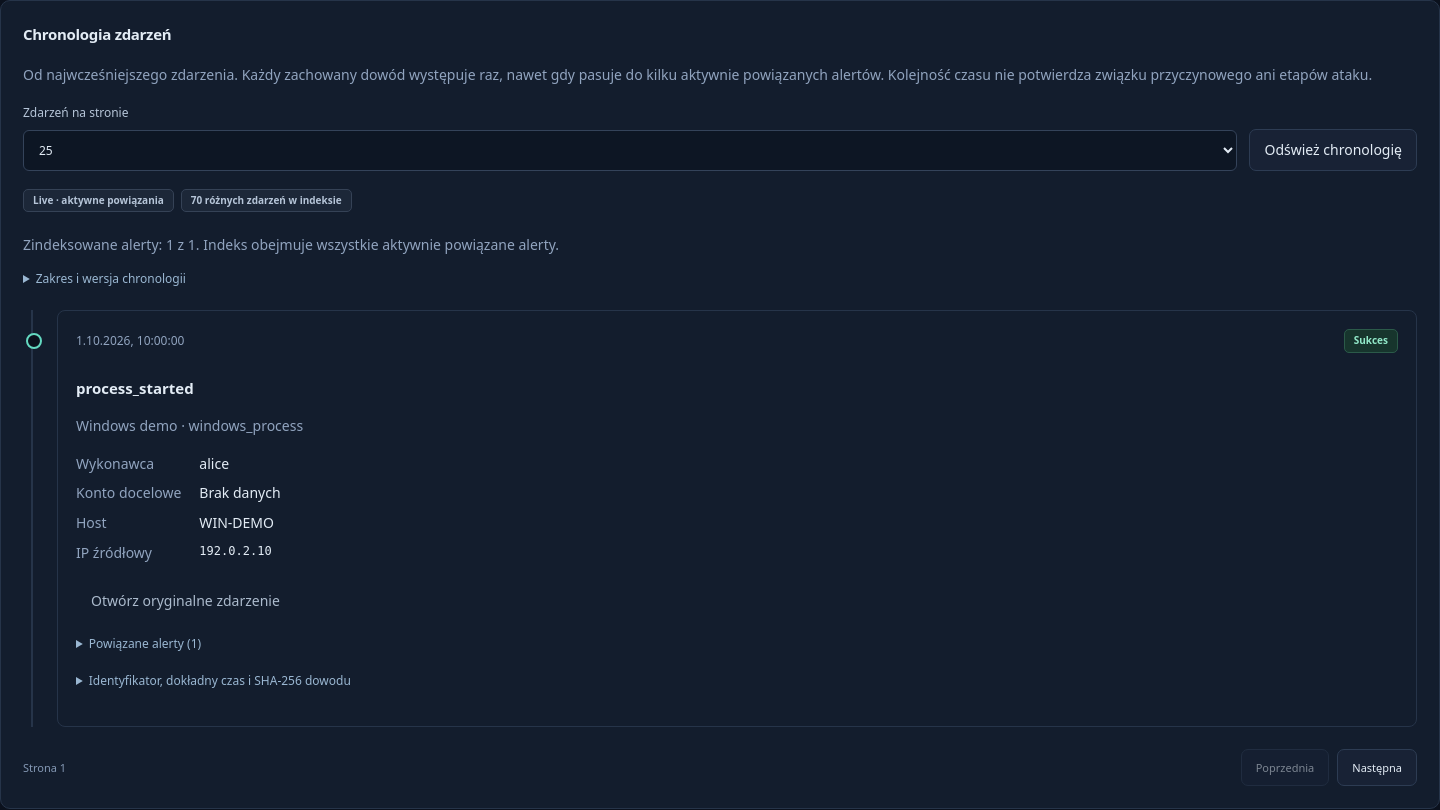
uses signed cursors, keeps global totals and clears the page when page size changes
Step 1. Click the button "Następna" → [1377, 768], box [1337, 749, 1417, 786]
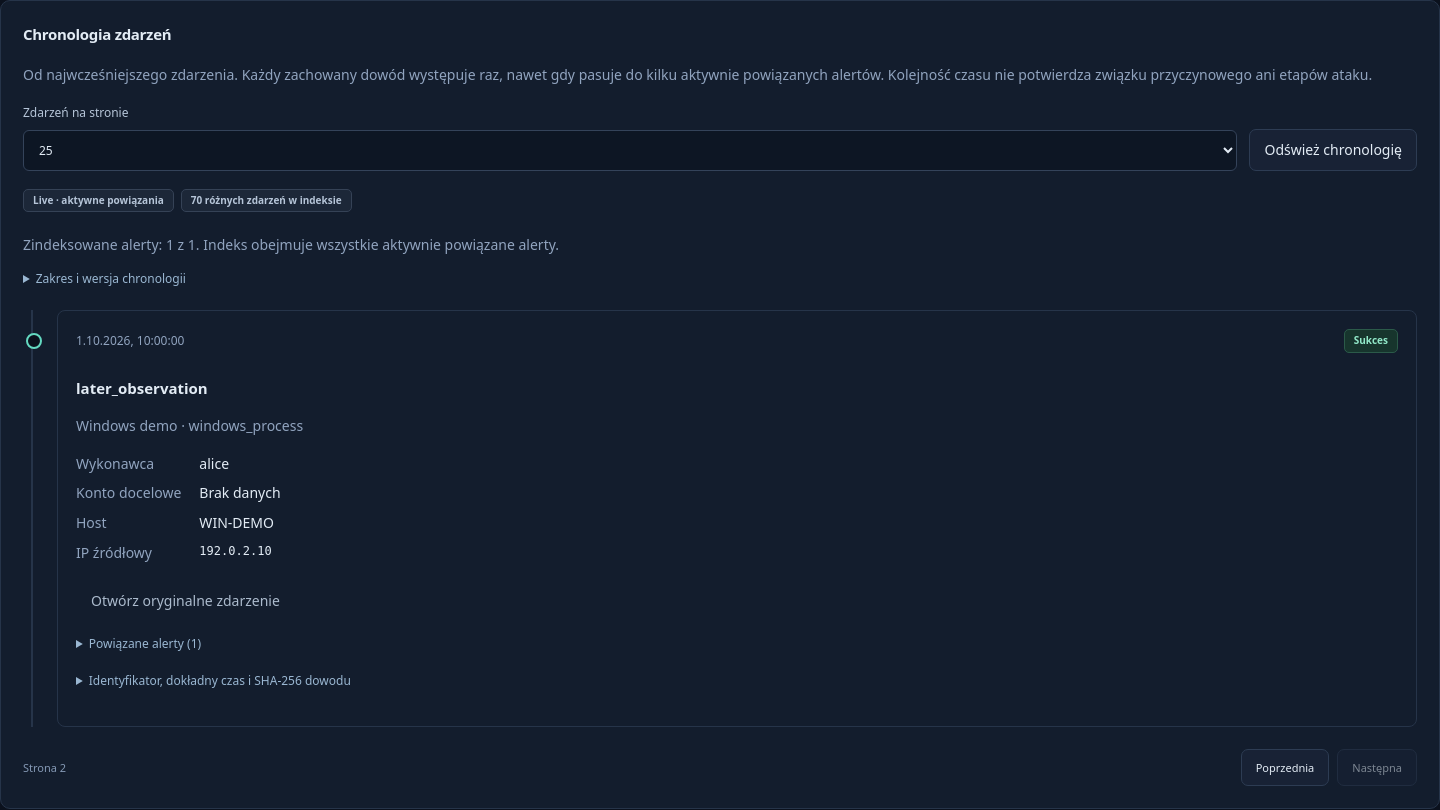
Result: the heading "later_observation" is shown at [76, 378, 208, 398]
Result: the heading "process_started" is gone
Result: the text "Strona 2" is shown at [23, 759, 66, 776]
Step 2. Select "5" in the dropdown labelled "Zdarzeń na stronie" → [630, 150], box [23, 130, 1238, 170]
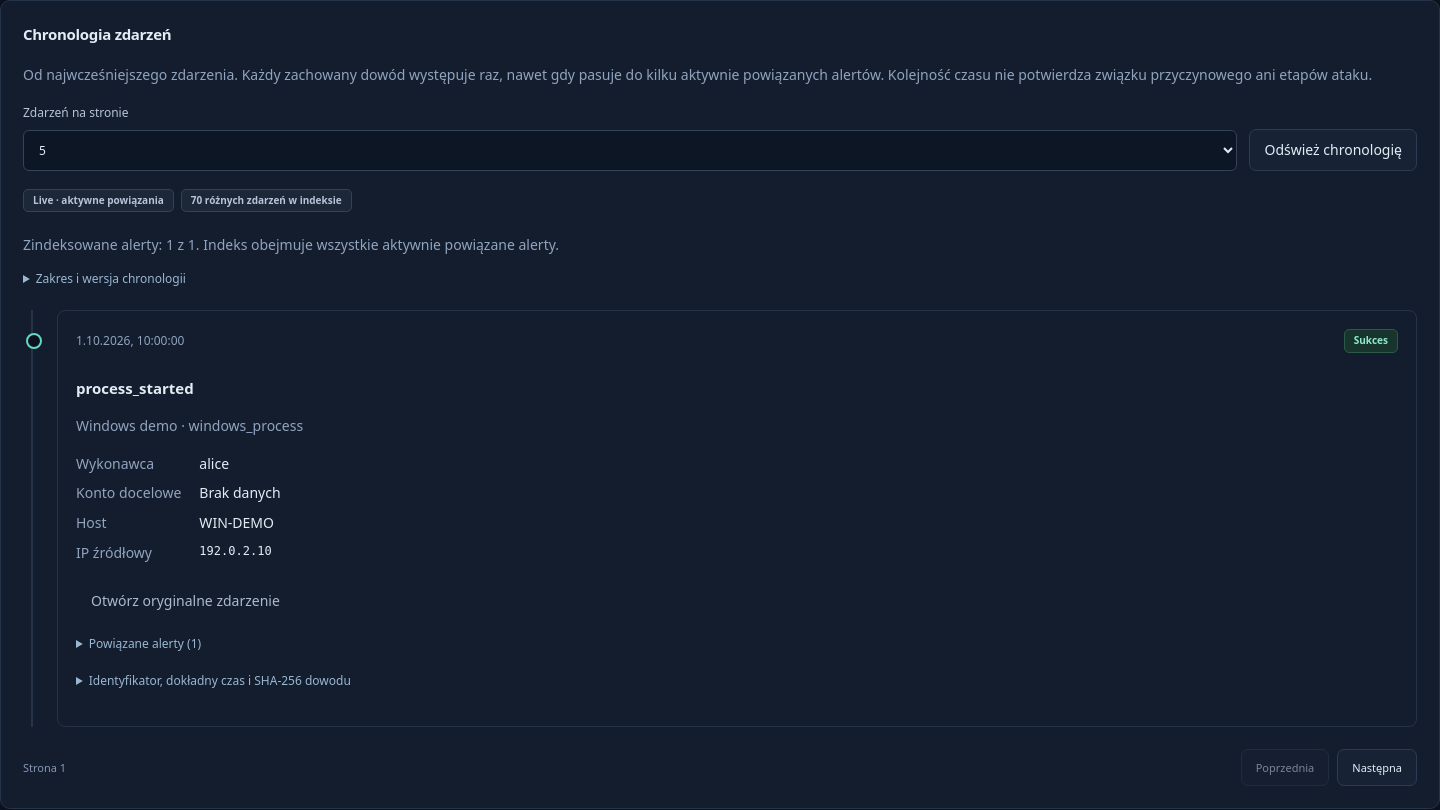
Result: the heading "process_started" is shown at [76, 378, 194, 398]
Result: the text "Strona 1" is shown at [23, 759, 66, 776]
Result: the button "Poprzednia" is disabled at [1241, 749, 1329, 786]
